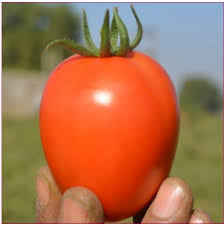tomato: (42, 55, 179, 192)
